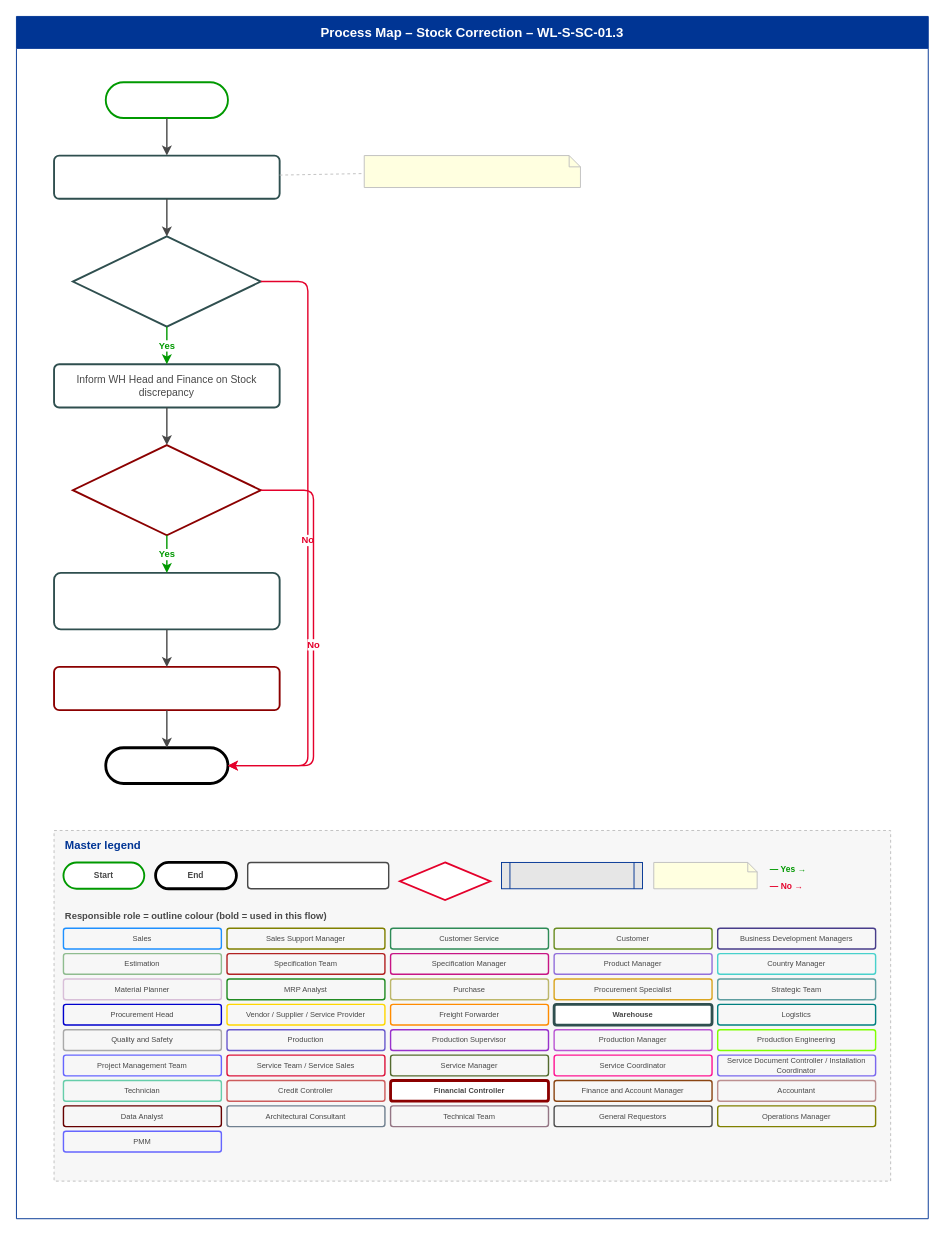
Image size: 945x1235. Some labels were removed from this diagram. Each missing label, with the box of its shape:
Activity (outline = role): (247, 861, 389, 889)
CORRECTION: (104, 81, 228, 118)
Correction APPROVED?: (71, 444, 261, 536)
Decision: (399, 861, 491, 901)
Descripency confirmed?: (71, 235, 261, 327)
EXIT: (104, 746, 229, 784)
Finance document change and Update Stock price if necessary: (53, 666, 280, 711)
Linked process (Ref ID): (501, 862, 642, 889)
Note / checklist: (653, 862, 757, 889)
Physical Stock Examination: (53, 154, 280, 199)
Re-check/ Verify Stock Quantity.: (363, 155, 580, 188)
Supervisor Updates Stock in SAP. Share reference Document number with Finance: (53, 572, 280, 630)
